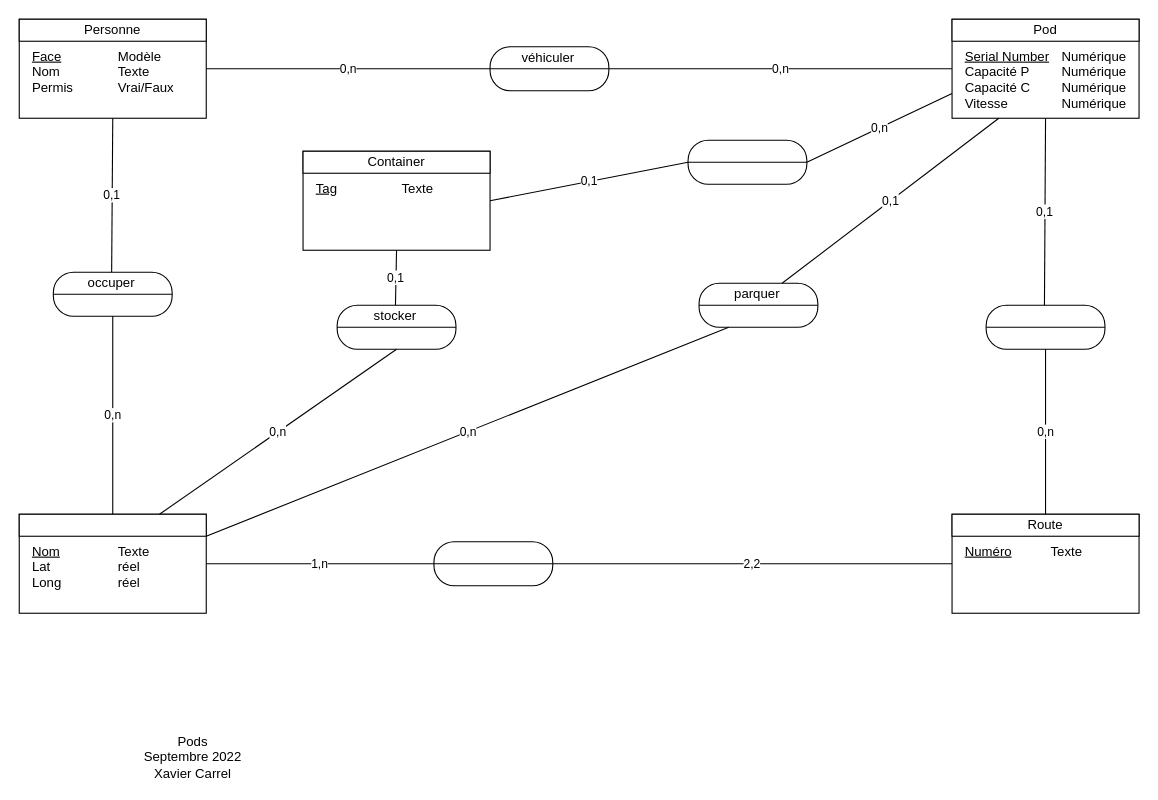
Some shapes in this 1158 by 800 pixel diagram are drawn without their labels. Here are the shapes that lost their labels. From the top down, the box of each, then its label:
(687, 139, 807, 184): transporter
(985, 304, 1105, 349): emprunter
(18, 513, 206, 536): Hub
(433, 541, 553, 586): relier
